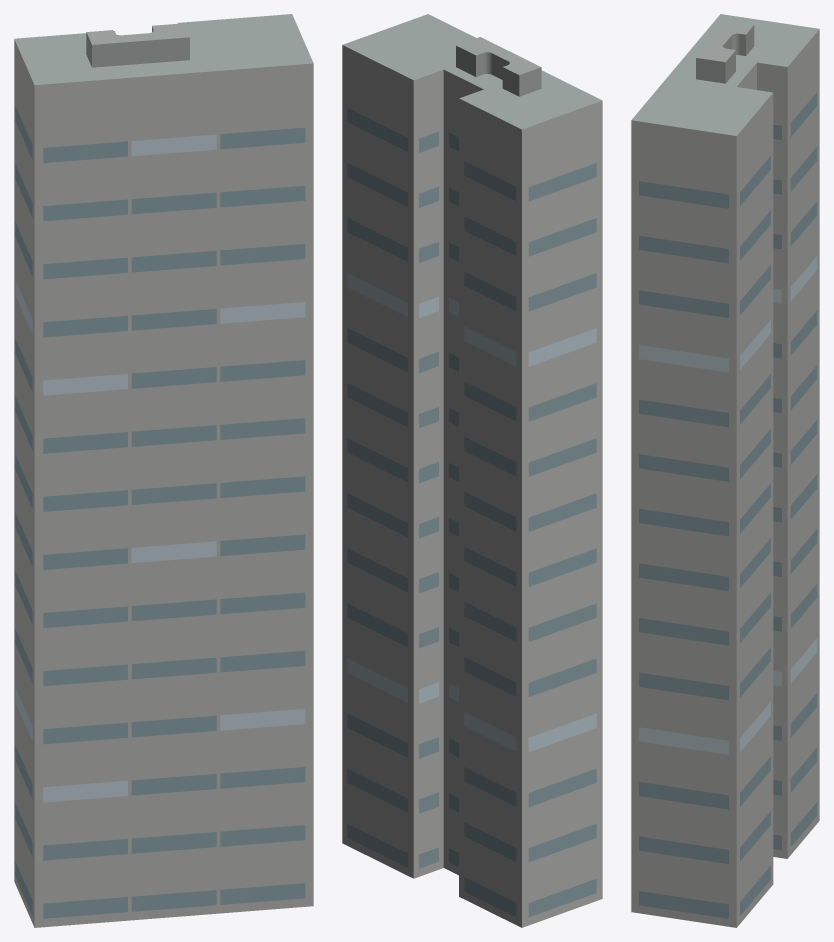
The model's file is fallback-dh-honor-hills-313.glb.
3 renders of one model, left to right at view 1: azimuth 30°, elevation 25°; view 2: azimuth 150°, elevation 25°; view 3: azimuth 270°, elevation 25°, orthographic. The views are drawn at different scales.
Visible parts, largest first — view 1: fallback-dh-honor-hills-313; view 2: fallback-dh-honor-hills-313; view 3: fallback-dh-honor-hills-313.
Boxes of the visible parts, x1=… form: fallback-dh-honor-hills-313: x1=14, y1=14, x2=313, y2=927; fallback-dh-honor-hills-313: x1=342, y1=14, x2=602, y2=927; fallback-dh-honor-hills-313: x1=631, y1=14, x2=819, y2=927.
Bounding box in the file's own units: 29.29 × 91 × 19.1.
